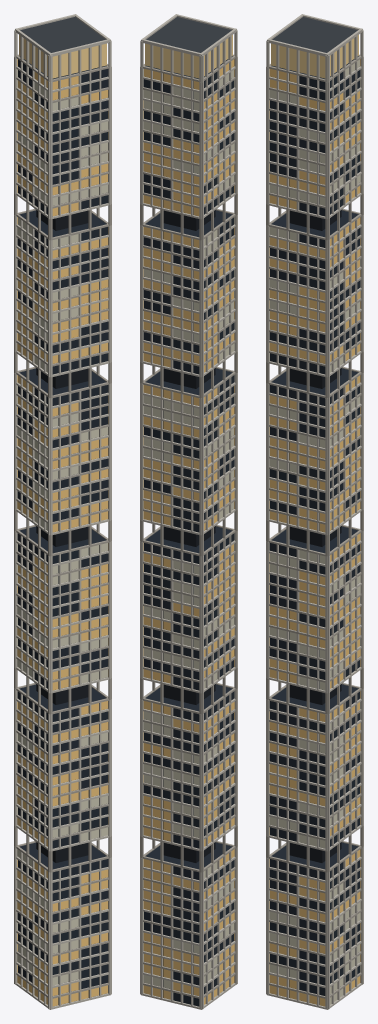
Rendered from pencil_tower.glb.
The picture shows the model from 3 angles, left to right: view 1: azimuth 30°, elevation 25°; view 2: azimuth 150°, elevation 25°; view 3: azimuth 330°, elevation 25°; orthographic projection.
Parts seen in each view (by area): view 1: pencil_tower; view 2: pencil_tower; view 3: pencil_tower.
Part boxes in pixels (<box>): pencil_tower: <box>14,14,111,1009</box>; pencil_tower: <box>140,14,237,1009</box>; pencil_tower: <box>266,14,363,1009</box>.
Bounding box in the file's own units: 29.05 × 422 × 29.05.
